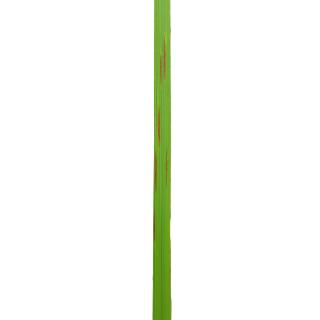Bercak-Cokelat-Sempit: (152, 103, 166, 147), (150, 152, 160, 196), (149, 208, 161, 244), (164, 149, 170, 192), (157, 52, 163, 88), (164, 32, 168, 84)
